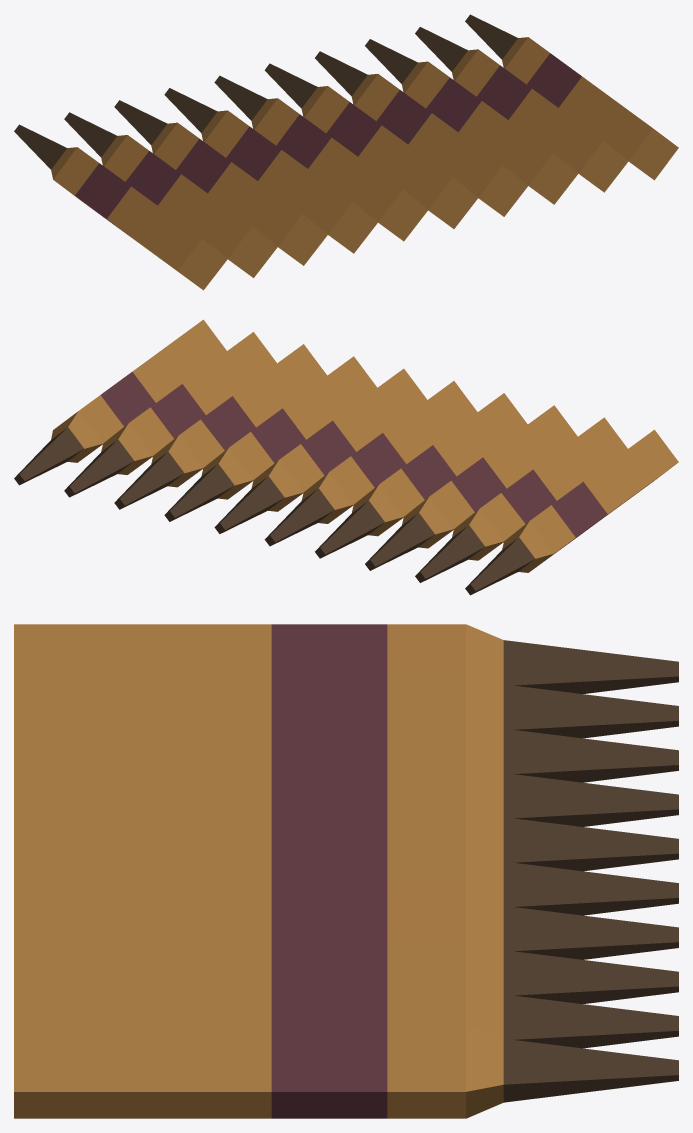
Rendered from bullets-50mm.fbx.
3 views of the same model, one above another, from view 1: azimuth 30°, elevation 25°; view 2: azimuth 150°, elevation 25°; view 3: azimuth 270°, elevation 25° (orthographic). The views are drawn at different scales.
Parts seen in each view (by area): view 1: bullets-50mm; view 2: bullets-50mm; view 3: bullets-50mm.
Boxes of the visible parts, x1,y1,x2,y2 form: bullets-50mm: [14, 14, 678, 290]; bullets-50mm: [14, 319, 678, 595]; bullets-50mm: [14, 624, 678, 1118].
Size of the model in its own units: 0.2151 by 0.0215 by 0.1365.
